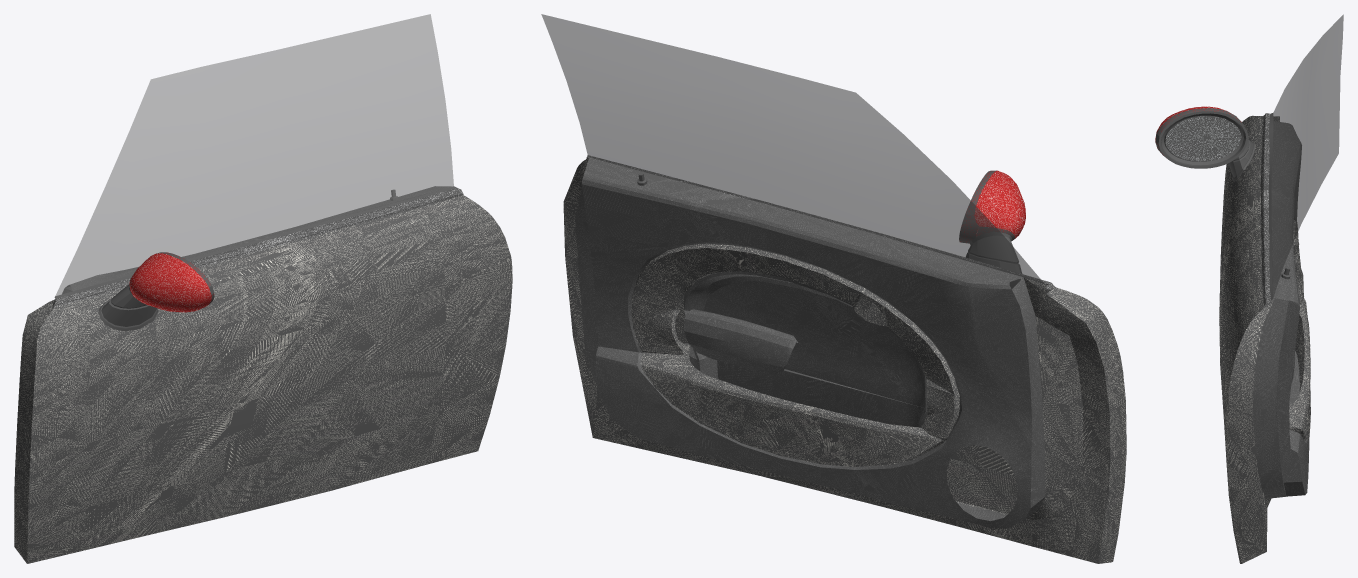
Rendered from car-door.dae.
The picture shows the model from 3 angles, left to right: view 1: azimuth 30°, elevation 25°; view 2: azimuth 150°, elevation 25°; view 3: azimuth 270°, elevation 25°; orthographic projection. The views are drawn at different scales.
Parts seen in each view (by area): view 1: instance_10.070, instance_10.072, instance_10.085, instance_10.069, instance_10.084, instance_10.075, instance_10.068; view 2: instance_10.075, instance_10.072, instance_10.070, instance_10.082, instance_10.076, instance_10.086, instance_10.085, instance_10.084, instance_10.069, instance_10.083; view 3: instance_10.070, instance_10.075, instance_10.072, instance_10.080, instance_10.082, instance_10.069, instance_10.081, instance_10.068, instance_10.084, instance_10.083, instance_10.076.
Boxes of the visible parts, bbox=[...] form: instance_10.070: bbox=[14, 195, 512, 563]; instance_10.072: bbox=[55, 14, 453, 295]; instance_10.085: bbox=[129, 253, 211, 312]; instance_10.069: bbox=[53, 188, 463, 307]; instance_10.084: bbox=[98, 284, 158, 331]; instance_10.075: bbox=[62, 186, 451, 293]; instance_10.068: bbox=[55, 186, 456, 298]; instance_10.075: bbox=[575, 157, 1045, 528]; instance_10.072: bbox=[541, 14, 1043, 282]; instance_10.070: bbox=[563, 158, 1126, 563]; instance_10.082: bbox=[631, 243, 959, 466]; instance_10.076: bbox=[683, 271, 927, 427]; instance_10.086: bbox=[683, 309, 917, 406]; instance_10.085: bbox=[974, 170, 1025, 238]; instance_10.084: bbox=[966, 232, 1021, 288]; instance_10.069: bbox=[587, 155, 1056, 289]; instance_10.083: bbox=[959, 170, 1015, 243]; instance_10.070: bbox=[1219, 115, 1279, 563]; instance_10.075: bbox=[1252, 121, 1309, 498]; instance_10.072: bbox=[1271, 14, 1343, 297]; instance_10.080: bbox=[1165, 116, 1241, 161]; instance_10.082: bbox=[1289, 220, 1310, 440]; instance_10.069: bbox=[1260, 113, 1273, 308]; instance_10.081: bbox=[1155, 111, 1248, 168]; instance_10.068: bbox=[1267, 113, 1274, 302]; instance_10.084: bbox=[1228, 139, 1255, 182]; instance_10.083: bbox=[1155, 108, 1242, 160]; instance_10.076: bbox=[1289, 351, 1299, 403].
Bounding box in the file's own units: 1.7 × 0.5589 × 1.36.
